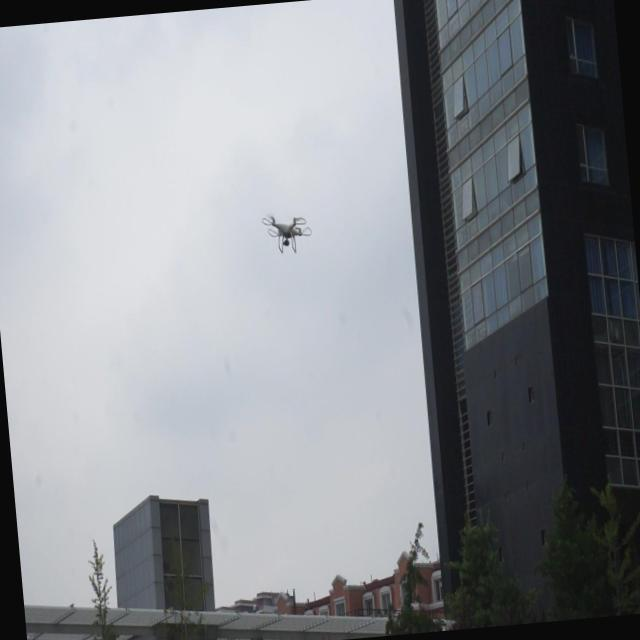drone: (258, 204, 316, 264)
